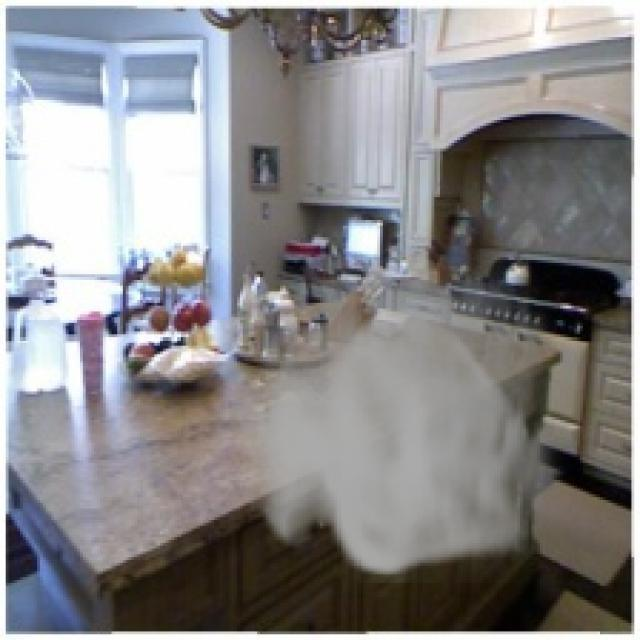Smoke: (232, 211, 574, 583)
